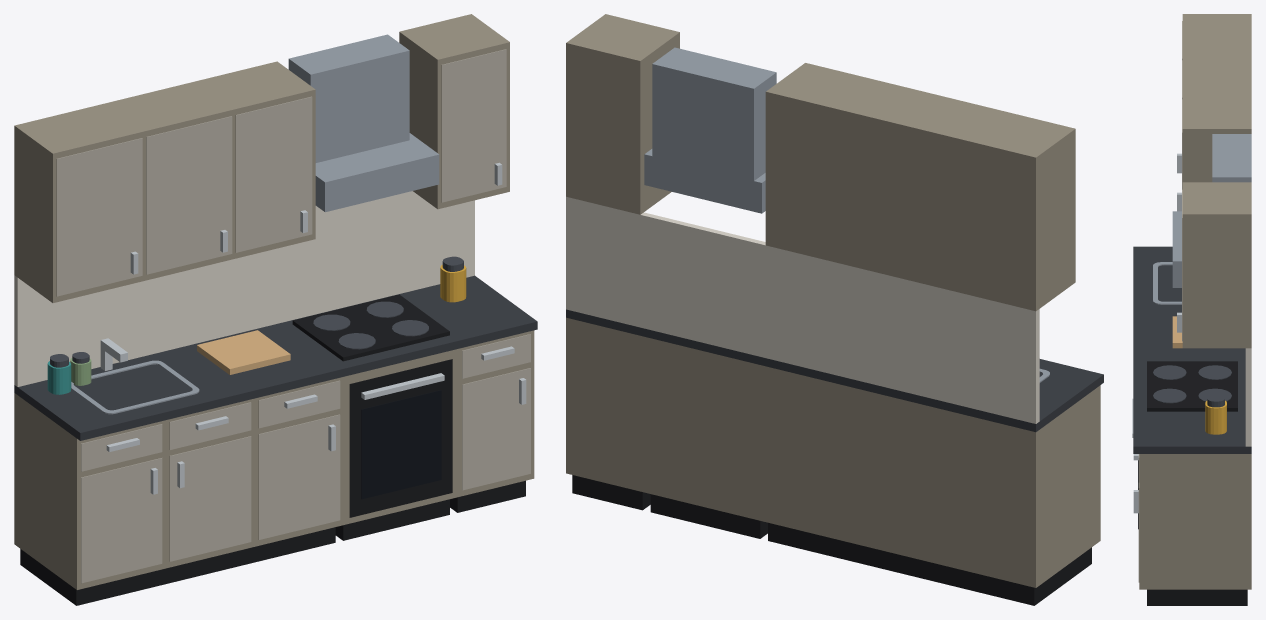
The model's file is kitchen.glb.
3 views of the same model, side by side, from view 1: azimuth 30°, elevation 25°; view 2: azimuth 150°, elevation 25°; view 3: azimuth 270°, elevation 25° (orthographic). The views are drawn at different scales.
Visible parts, largest first — view 1: kitchen_Body; view 2: kitchen_Body; view 3: kitchen_Body.
Part boxes in pixels (x1,y1,x2,y2): kitchen_Body: [14, 14, 537, 605]; kitchen_Body: [566, 14, 1103, 605]; kitchen_Body: [1132, 14, 1251, 605].
Size of the model in its own units: 2.4 by 2.2 by 0.605.
